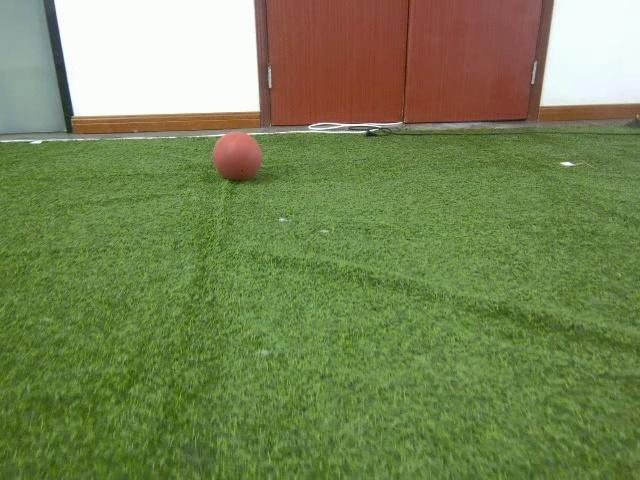red_ball: (212, 131, 262, 182)
